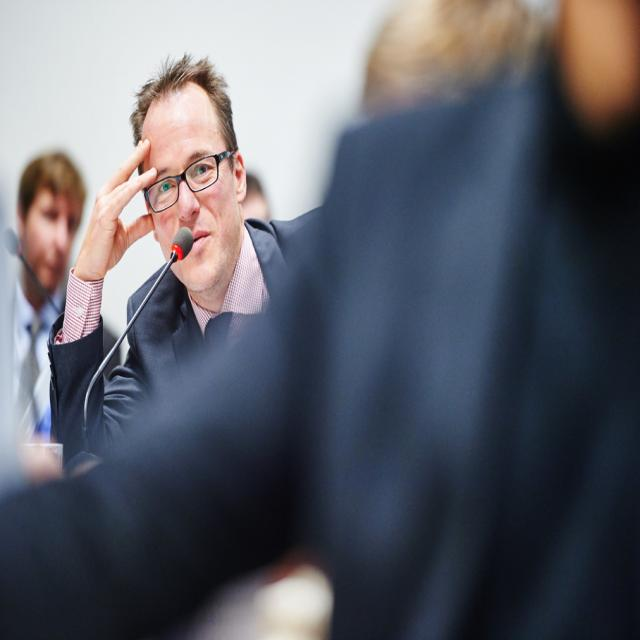Glasses: (118, 145, 239, 210)
